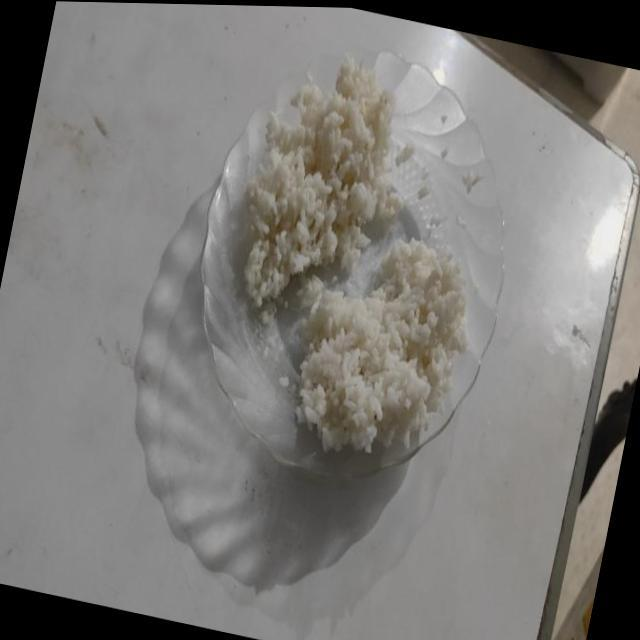nasi_putih: (245, 56, 402, 307), (298, 238, 465, 452)
